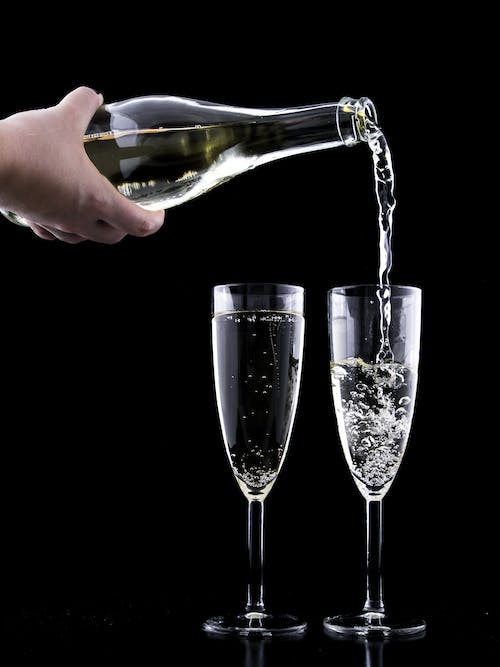alcohol: (0, 94, 380, 228), (200, 280, 308, 638), (323, 281, 427, 639)
